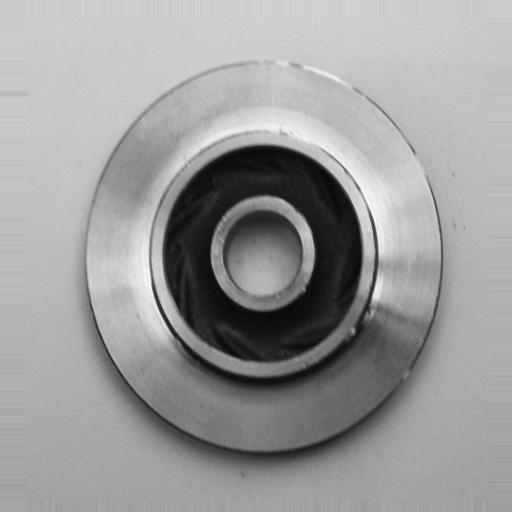scratch: (240, 115, 340, 161), (268, 54, 367, 98), (335, 309, 377, 357)
unpolished_casting: (84, 58, 447, 464)
